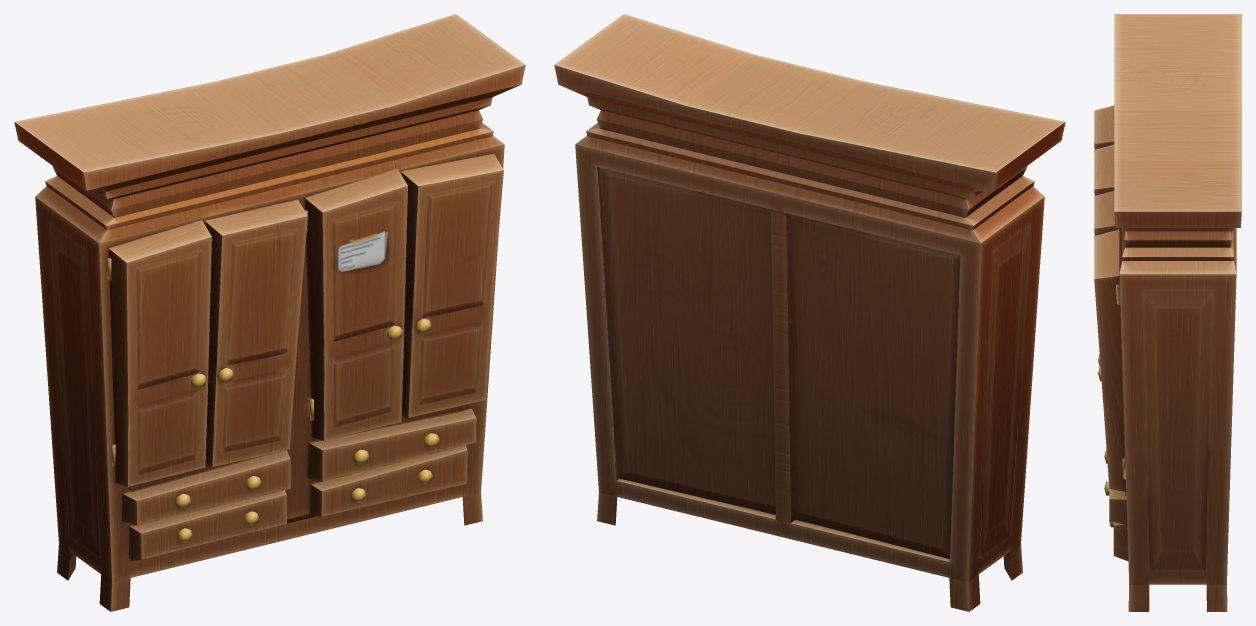
The model's file is wardrobe.glb.
3 views of the same model, side by side, from view 1: azimuth 30°, elevation 25°; view 2: azimuth 150°, elevation 25°; view 3: azimuth 270°, elevation 25° (orthographic). The views are drawn at different scales.
Visible parts, largest first — view 1: Wardrobe_Low; view 2: Wardrobe_Low; view 3: Wardrobe_Low.
Boxes of the visible parts, x1,y1,x2,y2 form: Wardrobe_Low: [14, 14, 525, 611]; Wardrobe_Low: [554, 14, 1065, 611]; Wardrobe_Low: [1094, 14, 1241, 611].
Bounding box in the file's own units: 240 × 235 × 75.63.
Materials: 1 (1 with a texture image).
